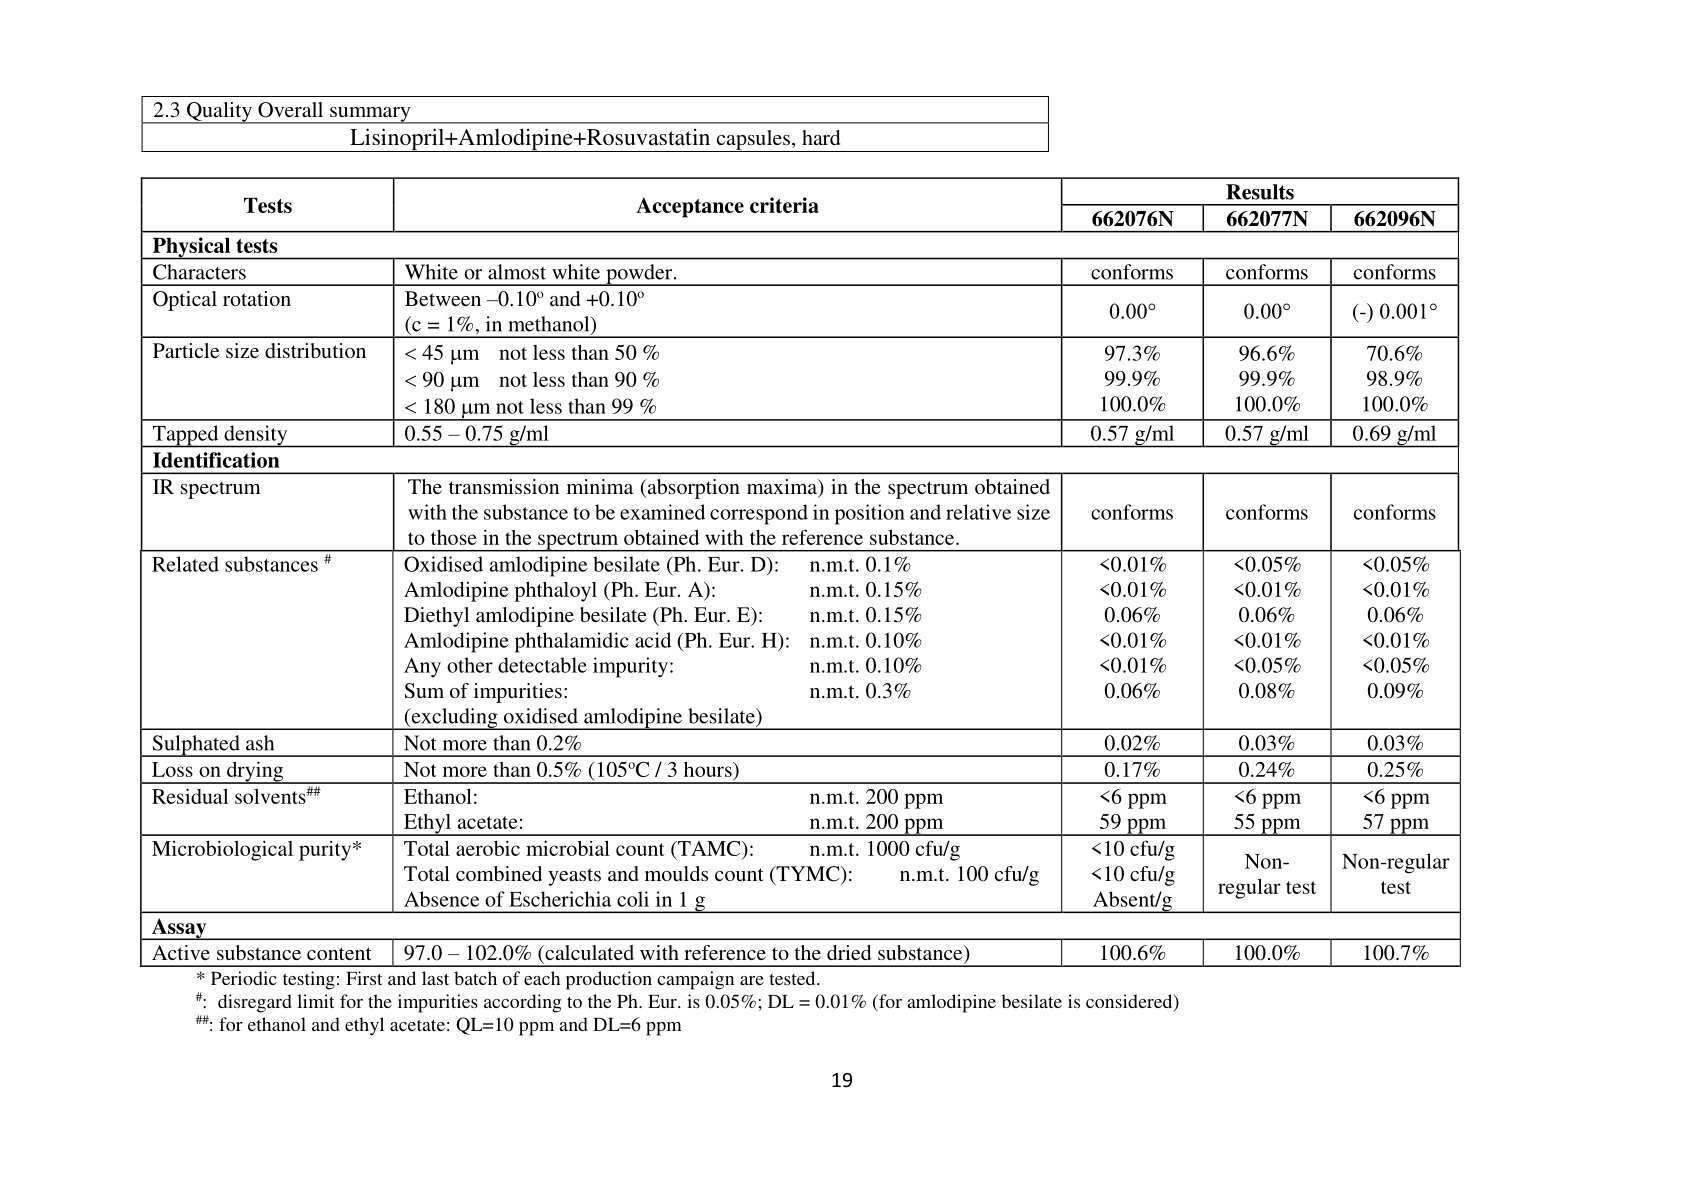full_lined: (140, 95, 1049, 153)
merged_cells: (140, 177, 1462, 968)
